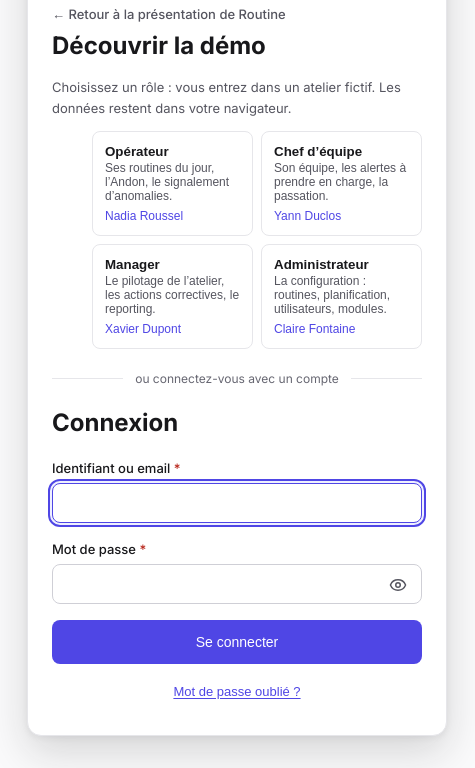
connexion et droits › mot de passe oublié : la demande est transmise aux administrateurs
The width and height of the screenshot is (475, 768).
(page scrolled)
Click the button "Mot de passe oublié ?": [237, 691] box [165,680,309,703]
(page scrolled)
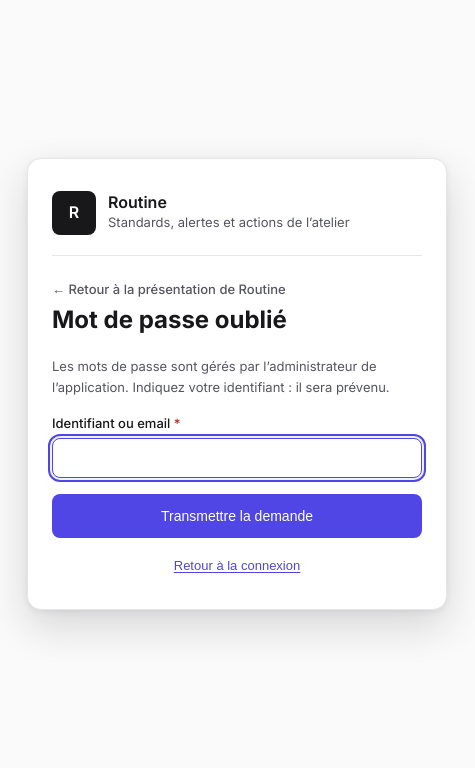
In the field labelled "Identifiant ou email *": [237, 458] box [52,438,422,478], type "operateur"
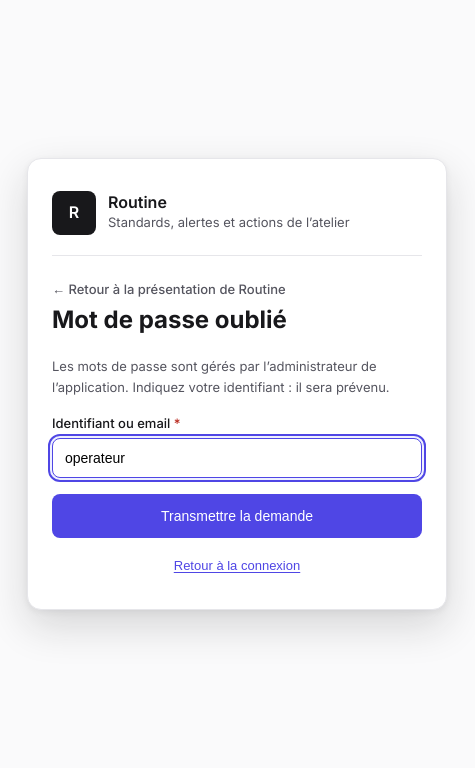
Click the button "Transmettre la demande": [237, 516] box [52,494,422,538]
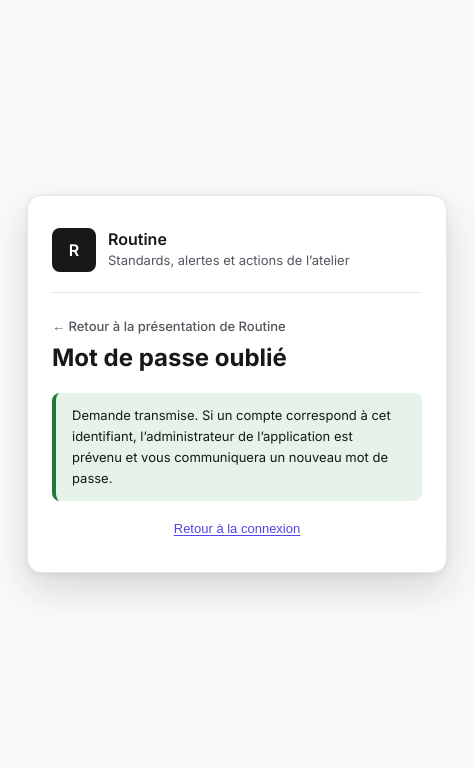
Check: the text "Demande transmise" is shown, box [72,407,391,486]
